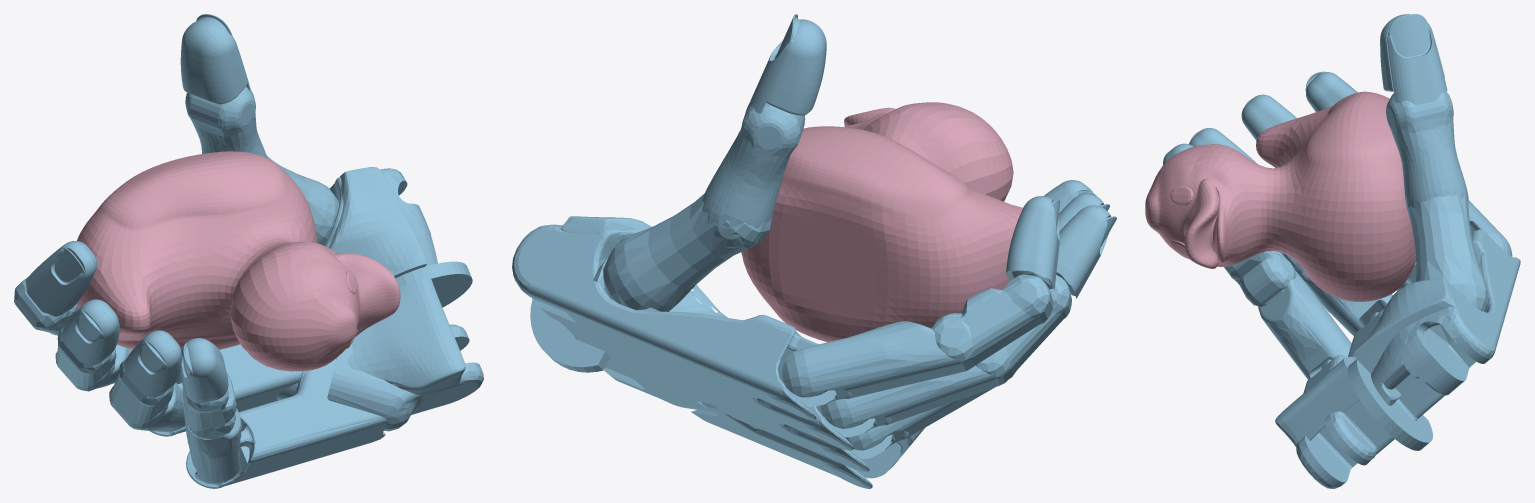
3 renders of one model, left to right at view 1: azimuth 30°, elevation 25°; view 2: azimuth 150°, elevation 25°; view 3: azimuth 270°, elevation 25°, orthographic. The views are drawn at different scales.
Parts seen in each view (by area): view 1: world; view 2: world; view 3: world.
Part boxes in pixels (<box>): world: <box>14,14,483,488</box>; world: <box>512,14,1116,488</box>; world: <box>1145,14,1520,488</box>.
Bounding box in the file's own units: 0.1743 × 0.1609 × 0.1318.
